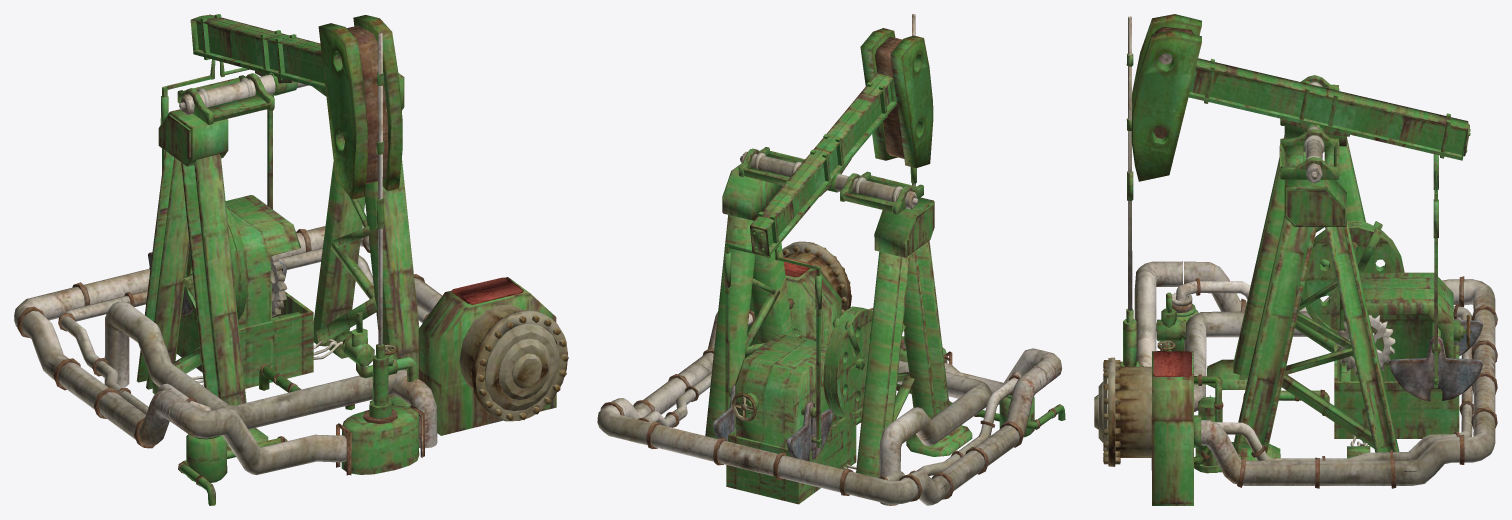
The model's file is pumpjack-west.glb.
The picture shows the model from 3 angles, left to right: view 1: azimuth 30°, elevation 25°; view 2: azimuth 150°, elevation 25°; view 3: azimuth 270°, elevation 25°; orthographic projection. The views are drawn at different scales.
Parts seen in each view (by area): view 1: body; view 2: body; view 3: body.
Boxes of the visible parts, x1=… form: body: x1=14, y1=14, x2=568, y2=505; body: x1=597, y1=14, x2=1065, y2=505; body: x1=1094, y1=14, x2=1497, y2=505.
Size of the model in its own units: 3.15 by 3.45 by 3.14.
1 material, 1 textured.
